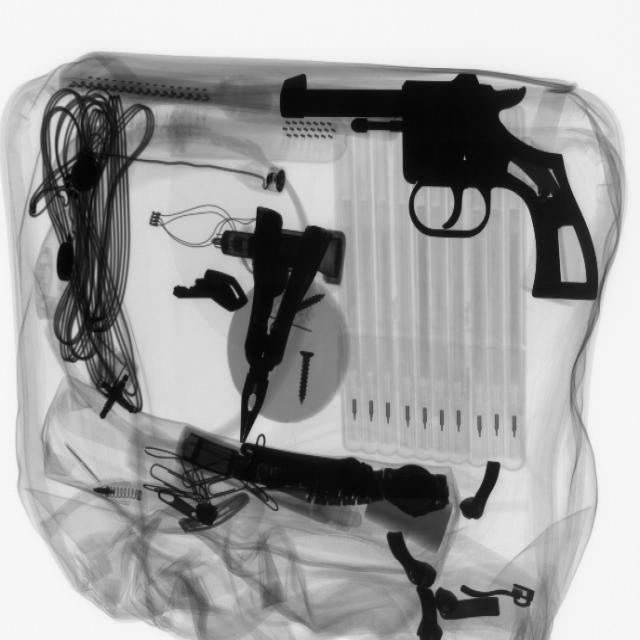BLADE: (167, 266, 255, 329), (64, 443, 108, 492)
GUN: (273, 77, 597, 308)
SCREW: (283, 348, 328, 416)
